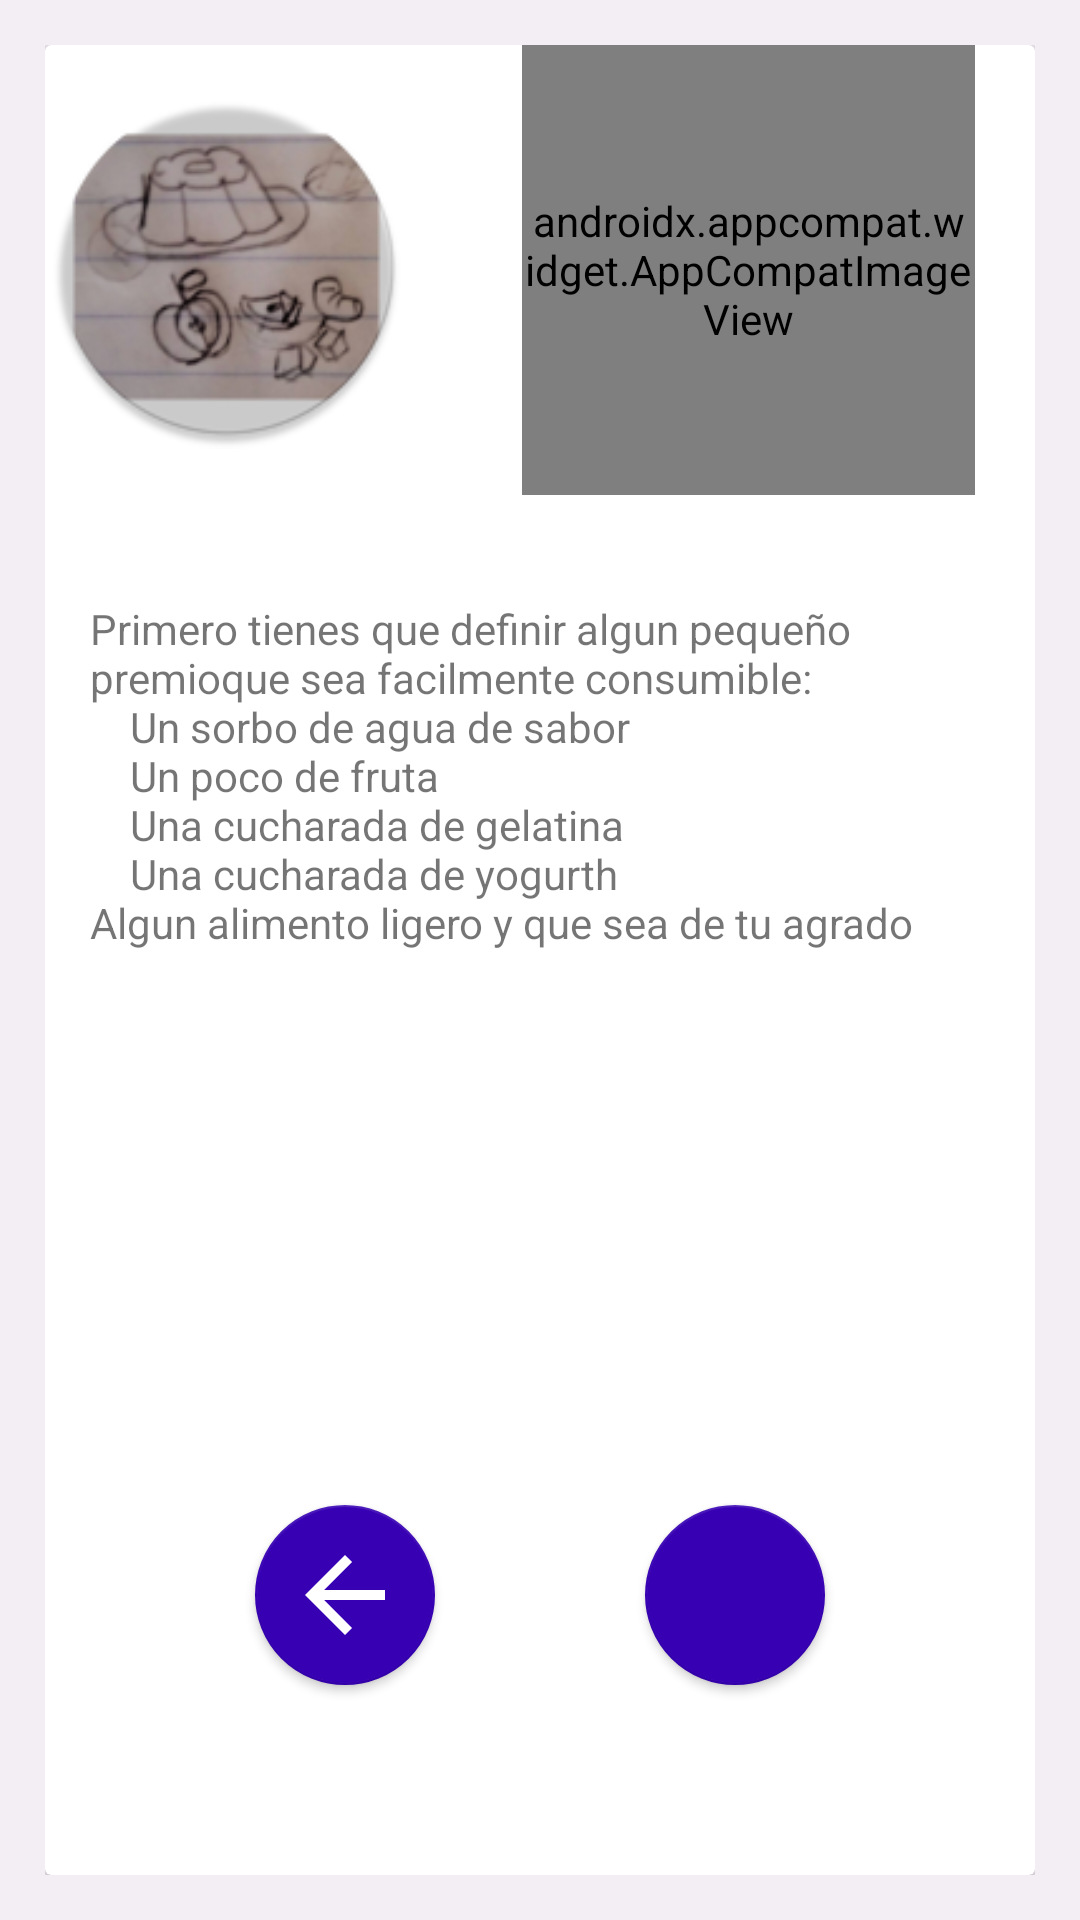

Named icons in this screenshot (1080px×1920px) and their bounding boxes, (x1, y1, x2, y2):
arrow back: (255, 1505, 435, 1685)
